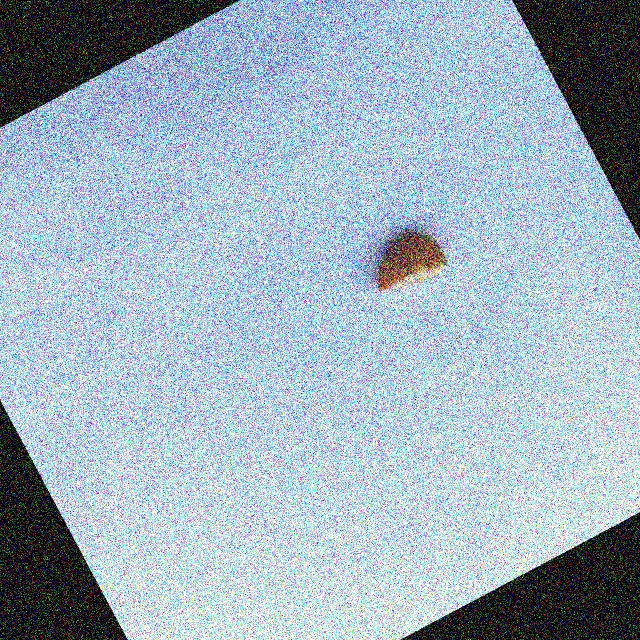grade4: (351, 214, 460, 312)
